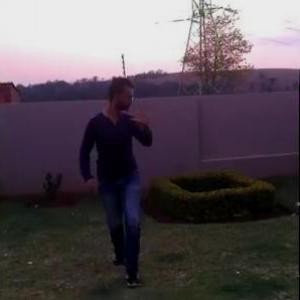follow_hand: (132, 96, 160, 128)
